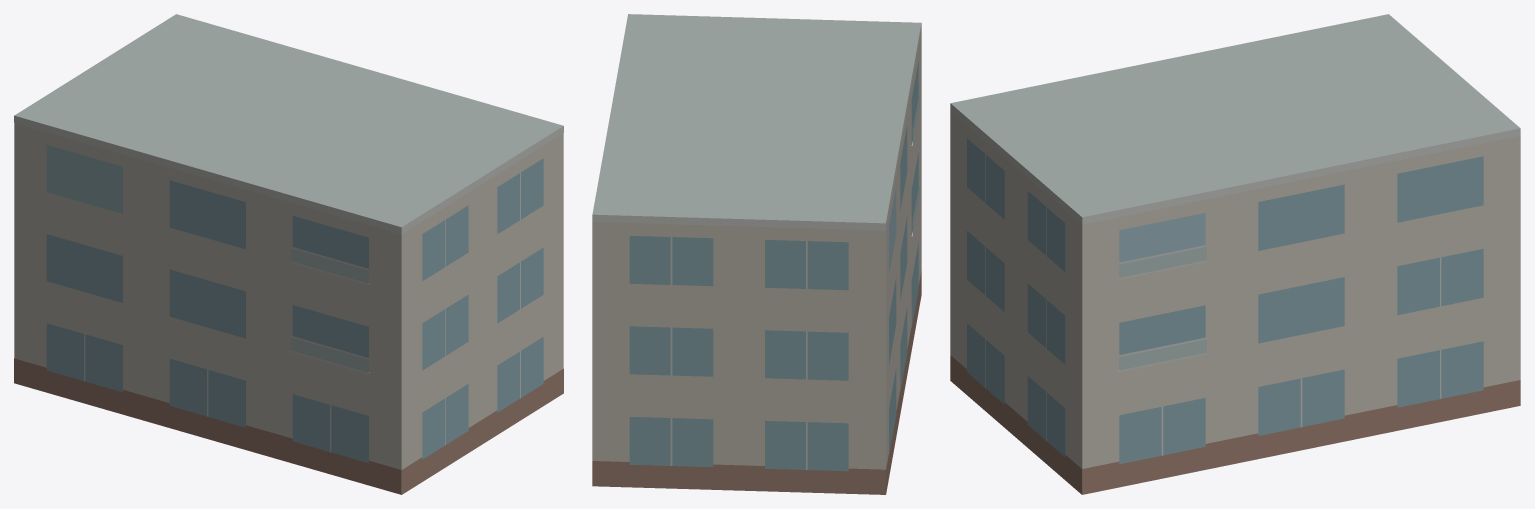
Rendered from survey-upis-32711367.glb.
3 renders of one model, left to right at view 1: azimuth 30°, elevation 25°; view 2: azimuth 150°, elevation 25°; view 3: azimuth 270°, elevation 25°, orthographic. The views are drawn at different scales.
Visible parts, largest first — view 1: survey-upis-32711367.tmp; view 2: survey-upis-32711367.tmp; view 3: survey-upis-32711367.tmp.
Boxes of the visible parts, x1=… form: survey-upis-32711367.tmp: x1=14, y1=14, x2=563, y2=494; survey-upis-32711367.tmp: x1=592, y1=14, x2=921, y2=494; survey-upis-32711367.tmp: x1=950, y1=14, x2=1520, y2=494.
Bounding box in the file's own units: 14.39 × 9.15 × 17.05.
